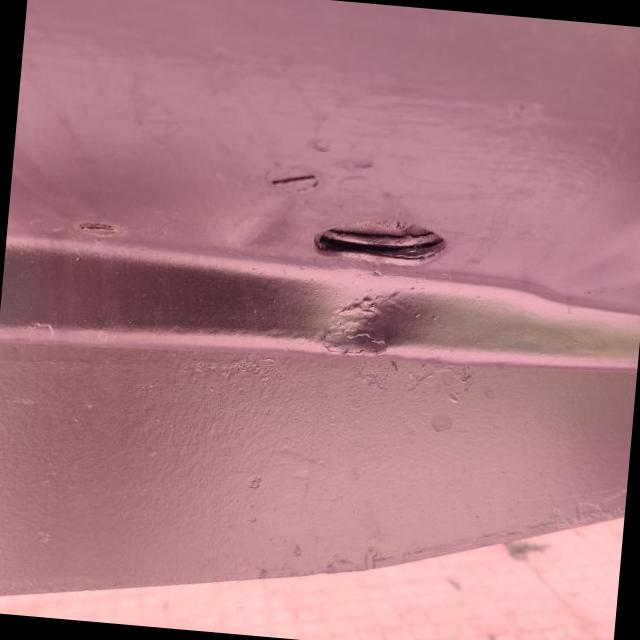Dent: (316, 286, 429, 354)
